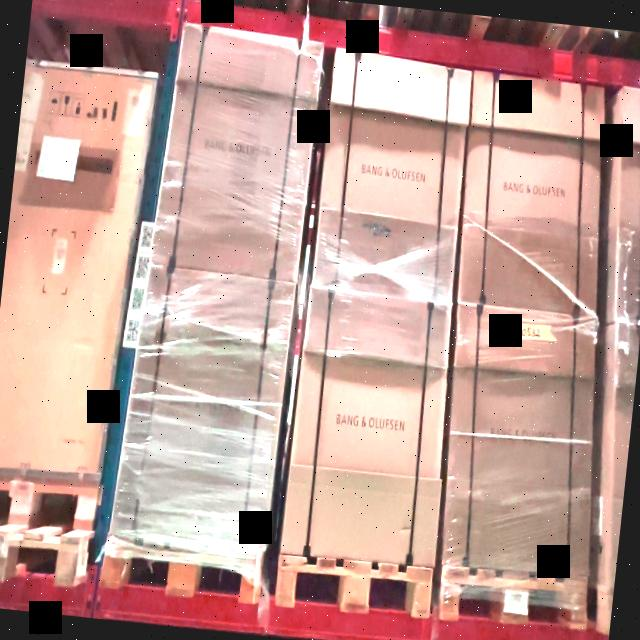box: (121, 264, 292, 548), (283, 286, 452, 564), (158, 26, 324, 276), (443, 307, 596, 576), (314, 57, 472, 297), (457, 72, 605, 314)
